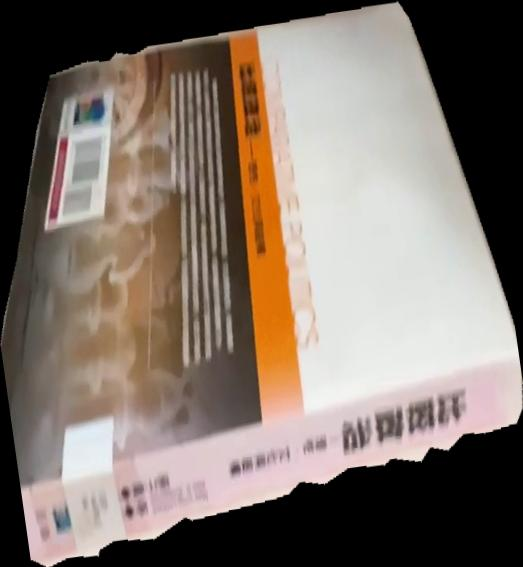flat: (1, 1, 523, 567)
